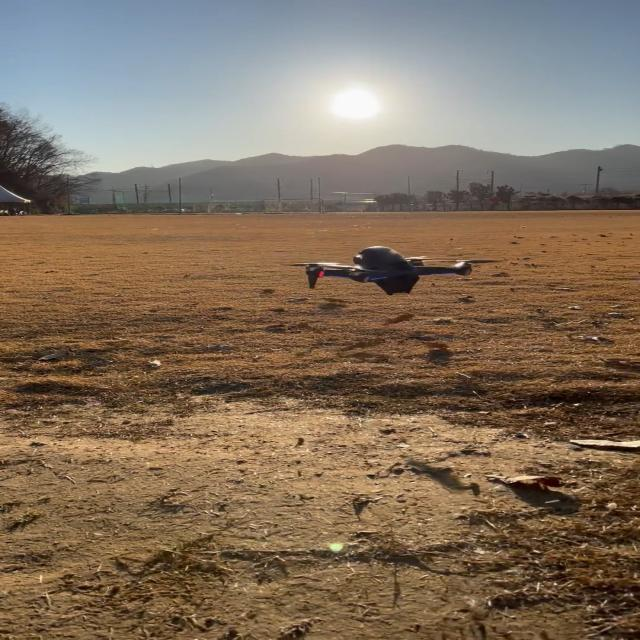Drone: (306, 246, 476, 296)
